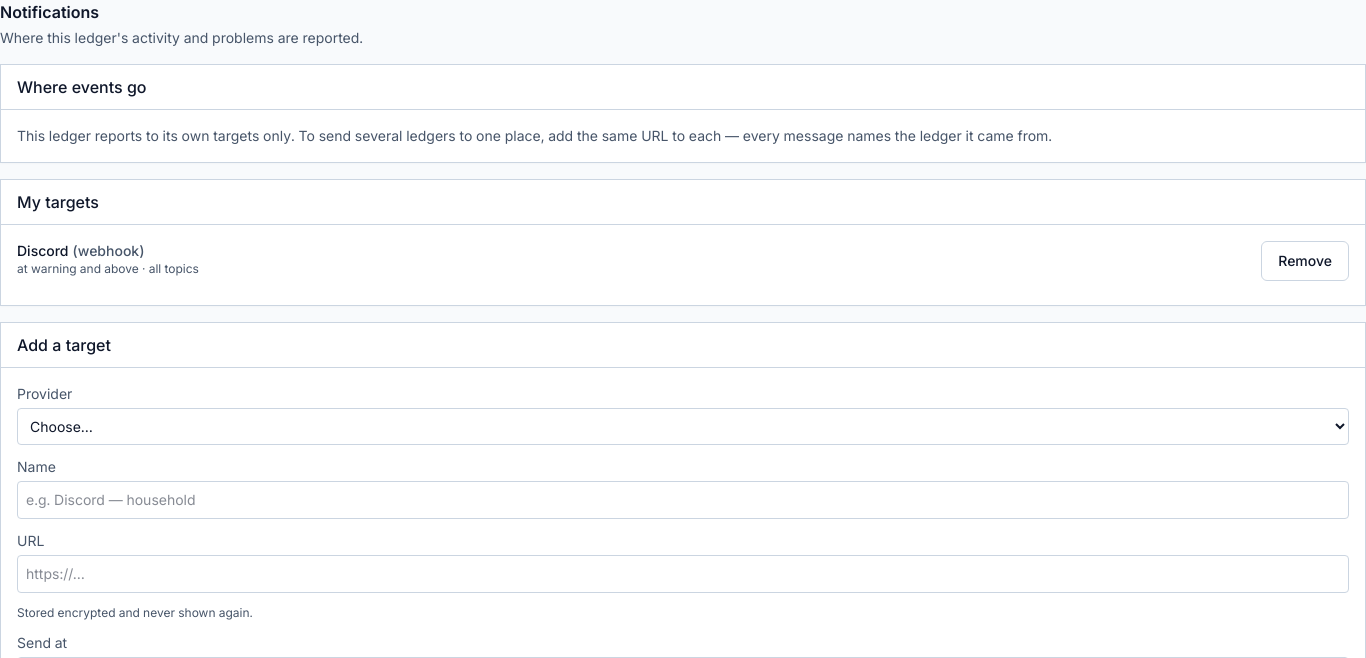
Test case: Ledger NotificationsPanel › warns that a message target cannot detect silence
Select "Webhook" in the dropdown labelled "Provider" at (683, 426), box [17, 408, 1349, 445]
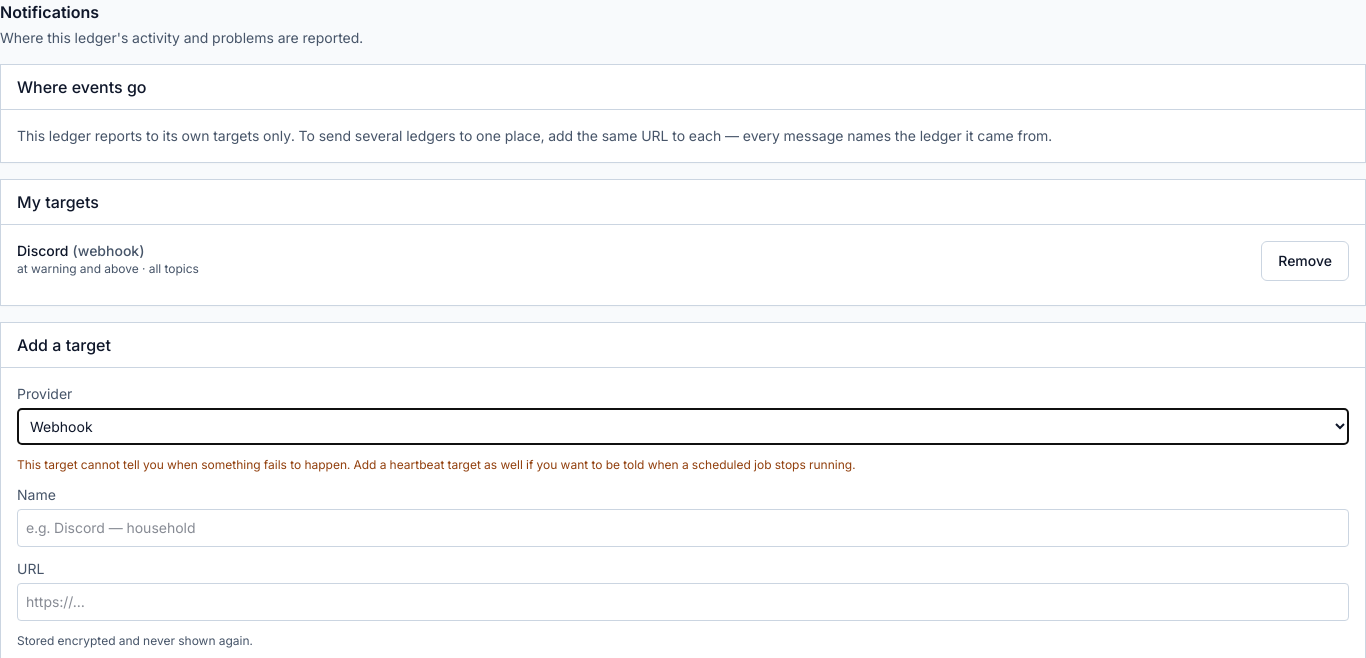
Result: the text "cannot tell you when something fails to happen" is shown at [17, 457, 855, 472]
